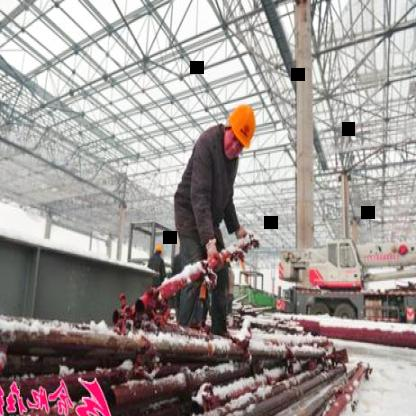helmet: (222, 100, 260, 160)
